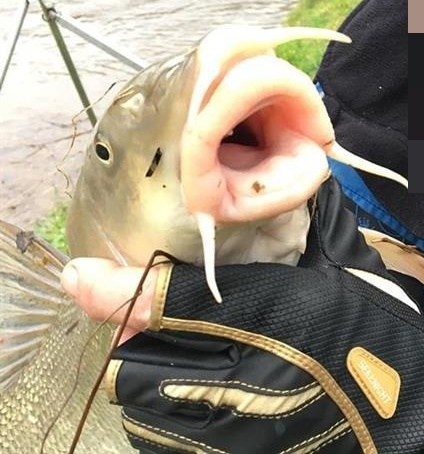Barbus barbus: (1, 20, 404, 454)
